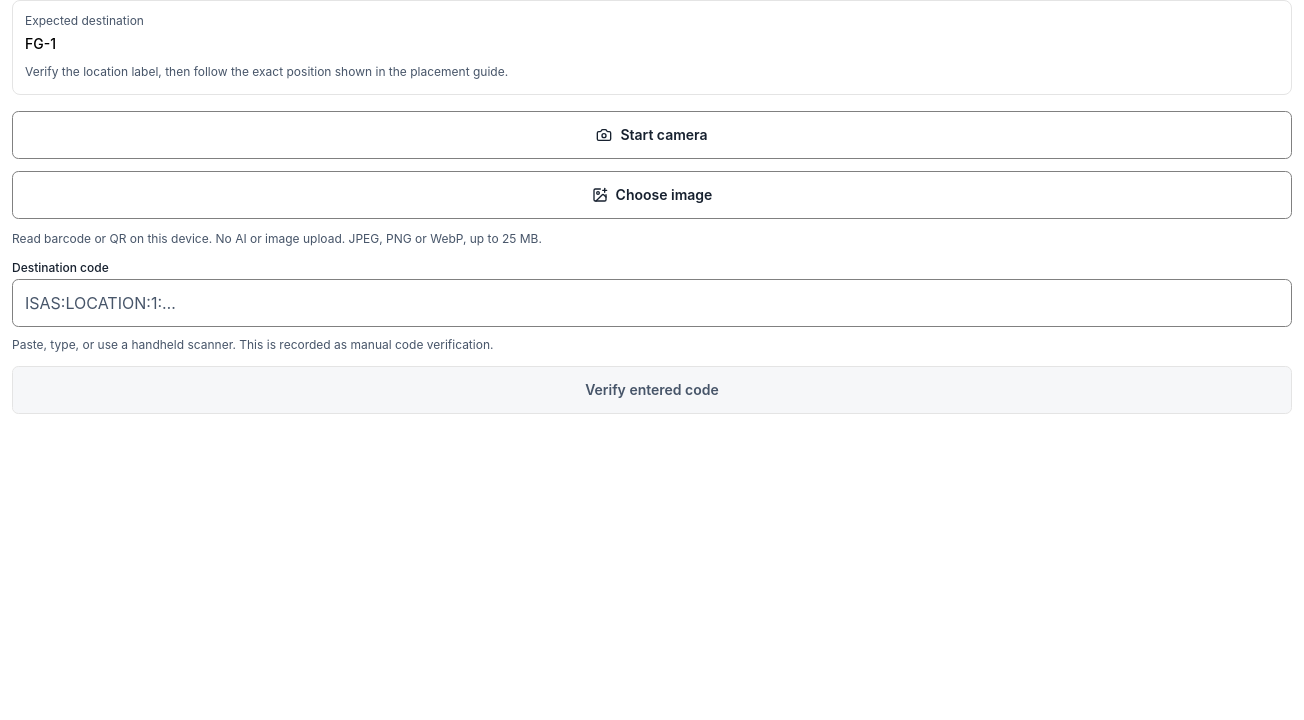
Test: DestinationScanner › handles browsers without a camera API
Click the button "Start camera": (652, 134) [12,110,1292,158]
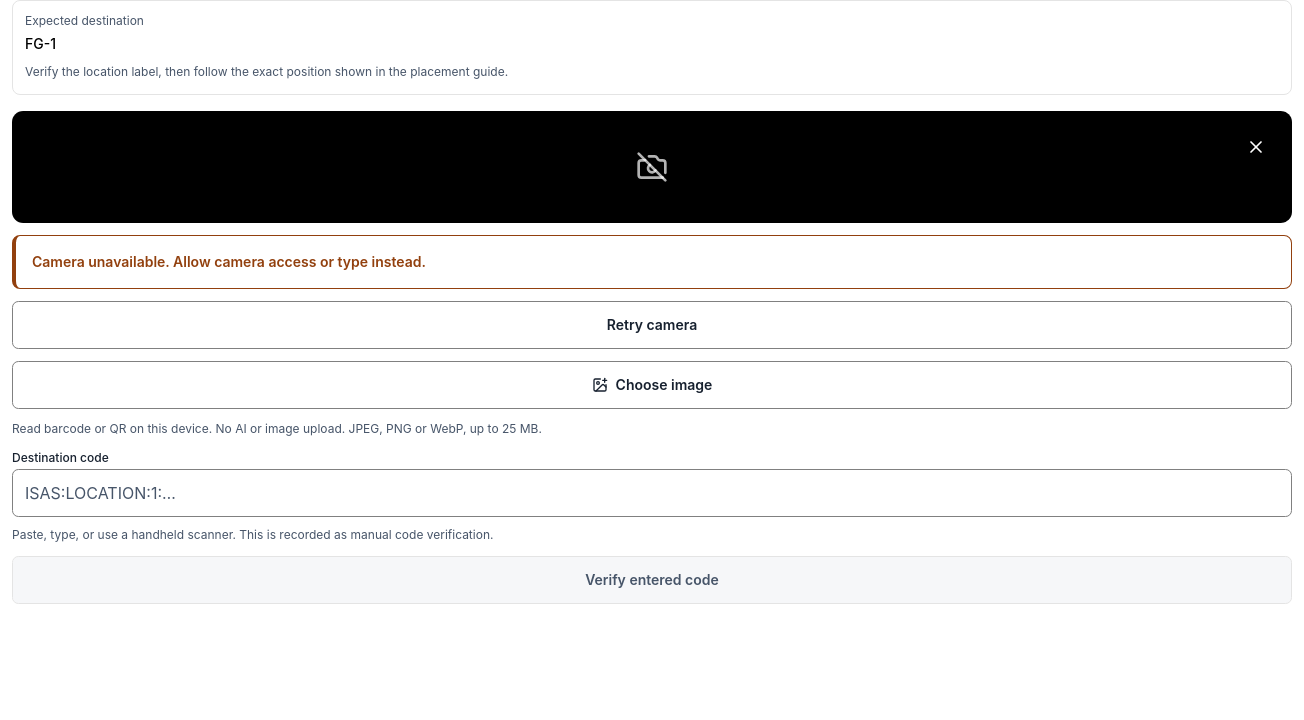
Expected: the message shows "Camera unavailable", [32,252,426,270]
